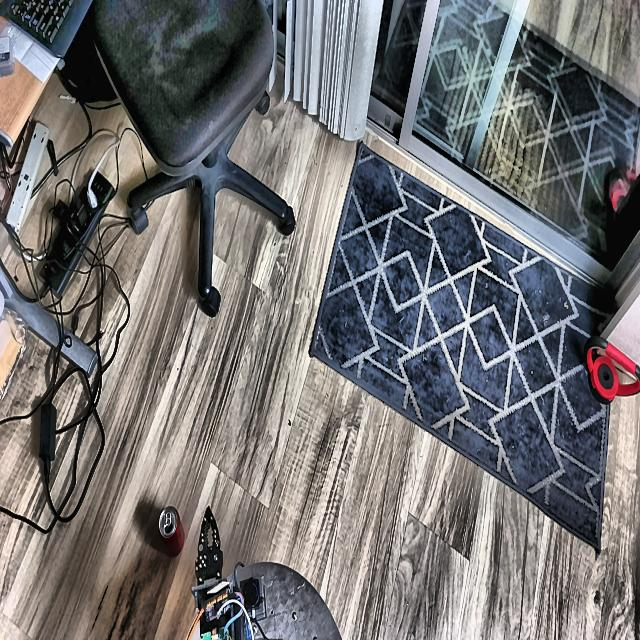Can: (159, 507, 184, 557)
